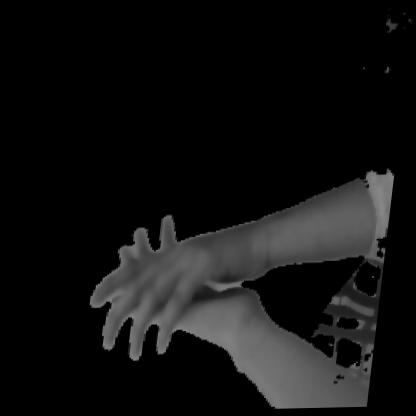clap: (80, 172, 307, 410)
